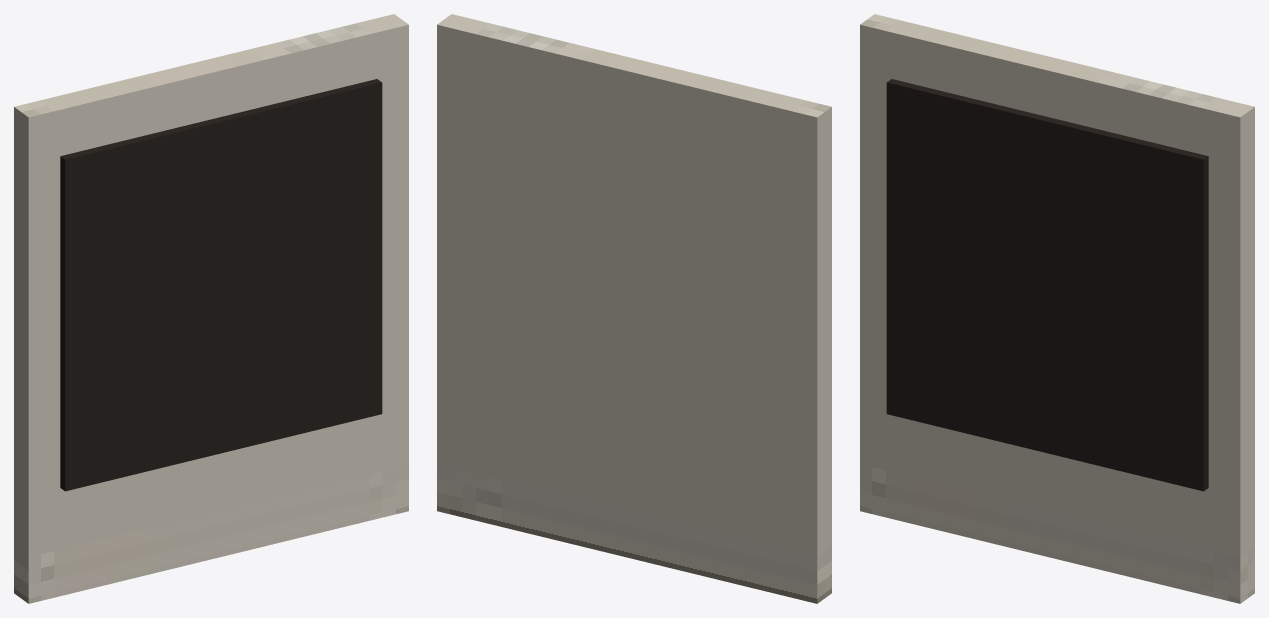
File: photo.glb
3 renders of one model, left to right at view 1: azimuth 30°, elevation 25°; view 2: azimuth 150°, elevation 25°; view 3: azimuth 330°, elevation 25°, orthographic.
Visible parts, largest first — view 1: Photo, Main; view 2: Main; view 3: Photo, Main.
Boxes of the visible parts, left/top/right/bottom form: Photo: left=60, top=79, right=382, bottom=491; Main: left=14, top=14, right=408, bottom=603; Main: left=437, top=14, right=831, bottom=603; Photo: left=886, top=79, right=1208, bottom=491; Main: left=860, top=14, right=1254, bottom=603.
Bounding box in the file's own units: 0.09 × 0.11 × 0.008.
Materials: 2 (2 with a texture image).
